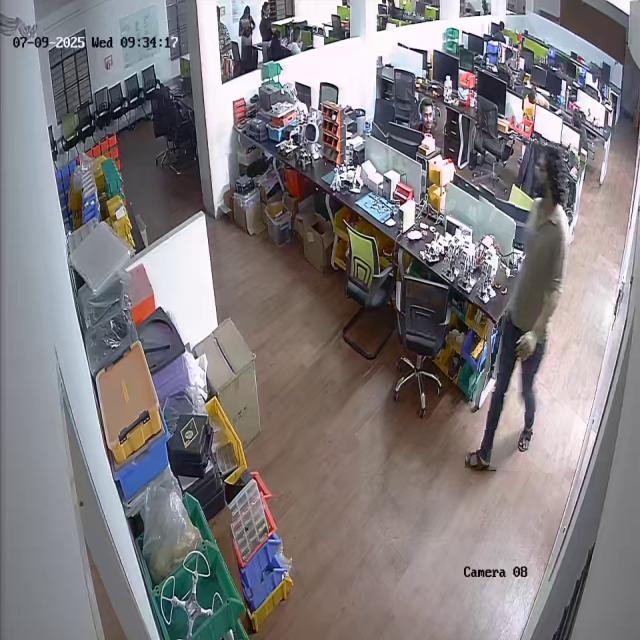person: (469, 140, 574, 472)
